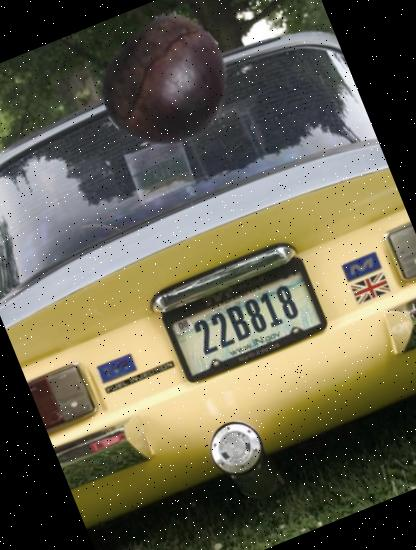Chestnut: (81, 0, 254, 171)
